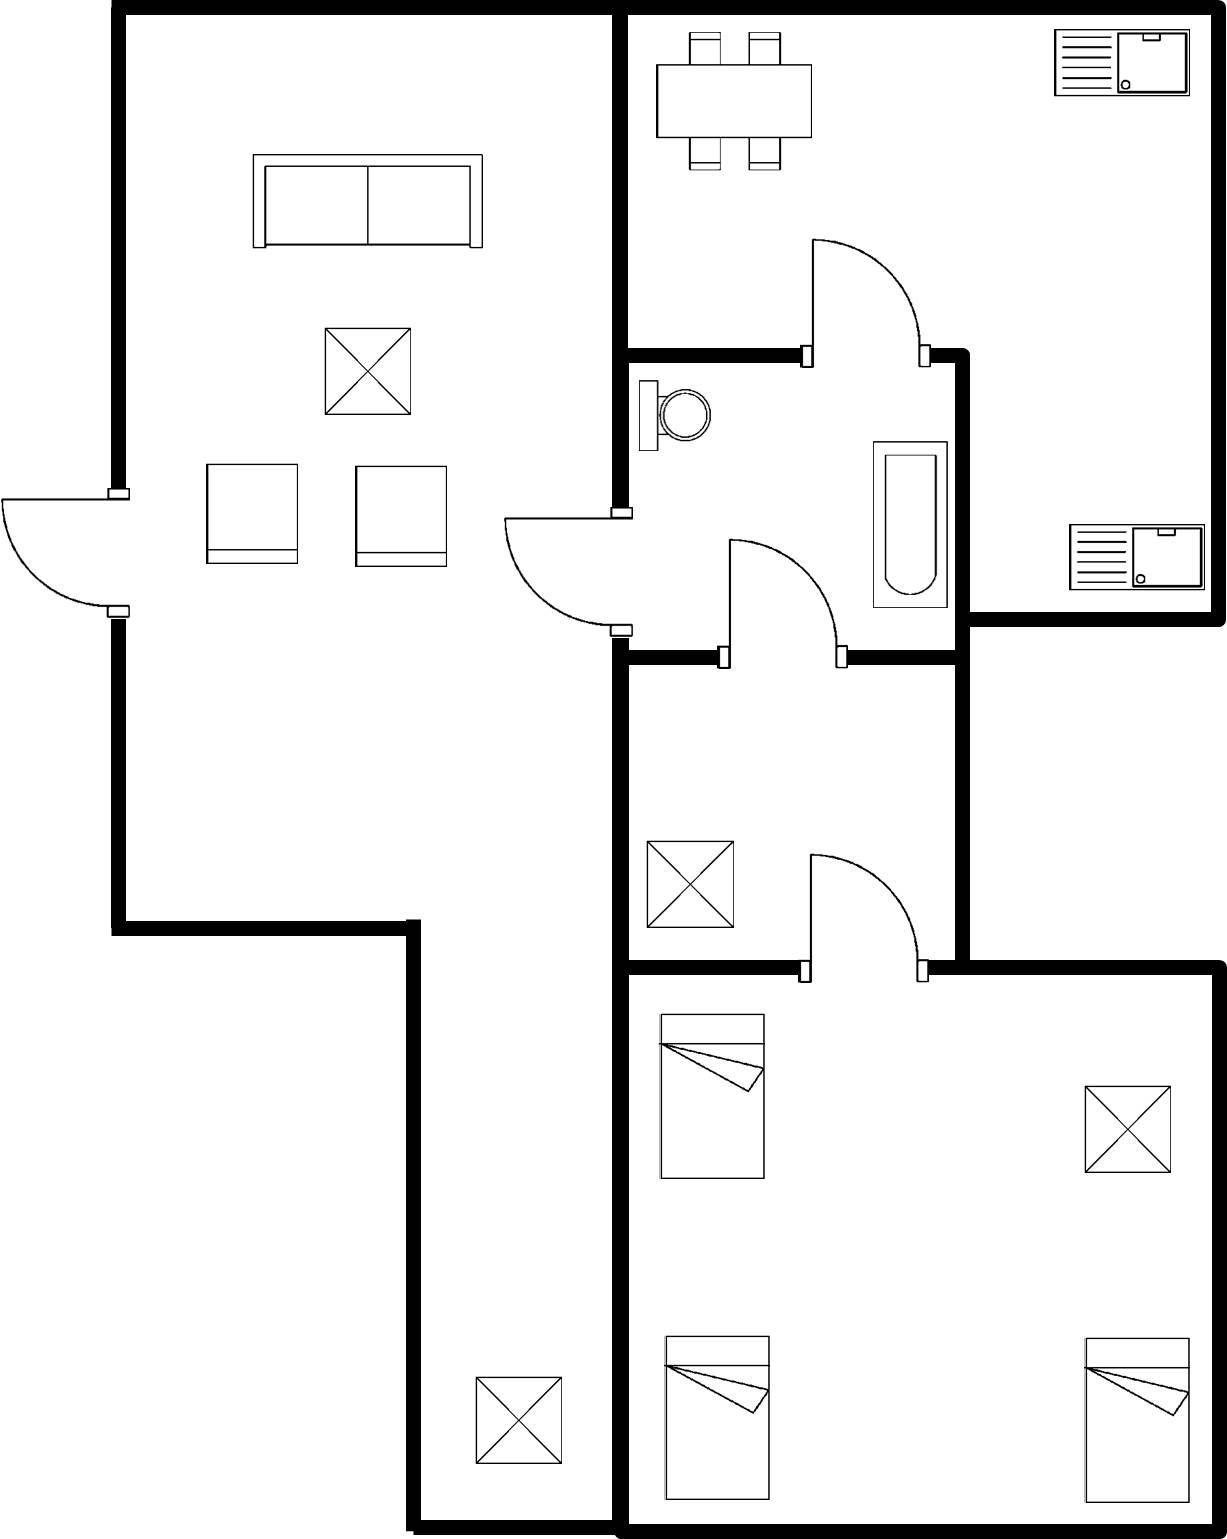bed: (645, 999, 774, 1193), (652, 1325, 779, 1511), (1076, 1329, 1201, 1516)
dining_table: (644, 23, 824, 182)
sink: (1057, 510, 1213, 604), (1043, 20, 1199, 111)
sofa: (242, 143, 497, 262)
toilet: (629, 369, 715, 465)
tub: (861, 423, 955, 619)
